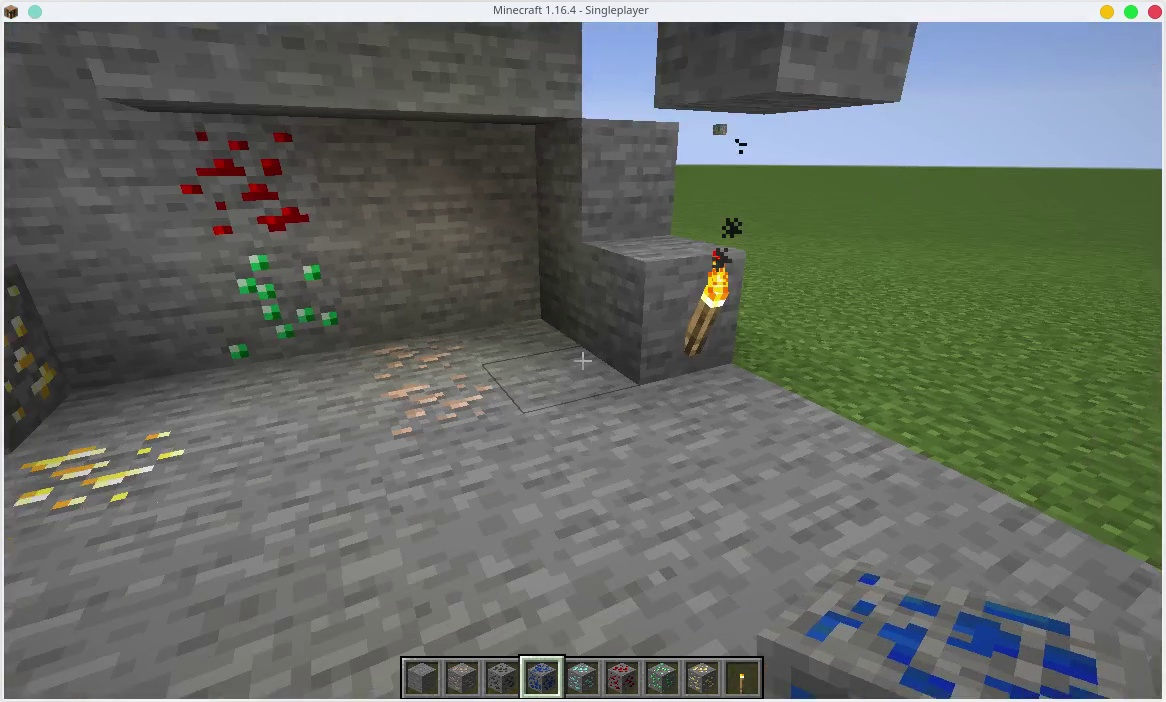gold: (12, 409, 211, 516), (1, 268, 64, 398), (688, 658, 715, 690)
